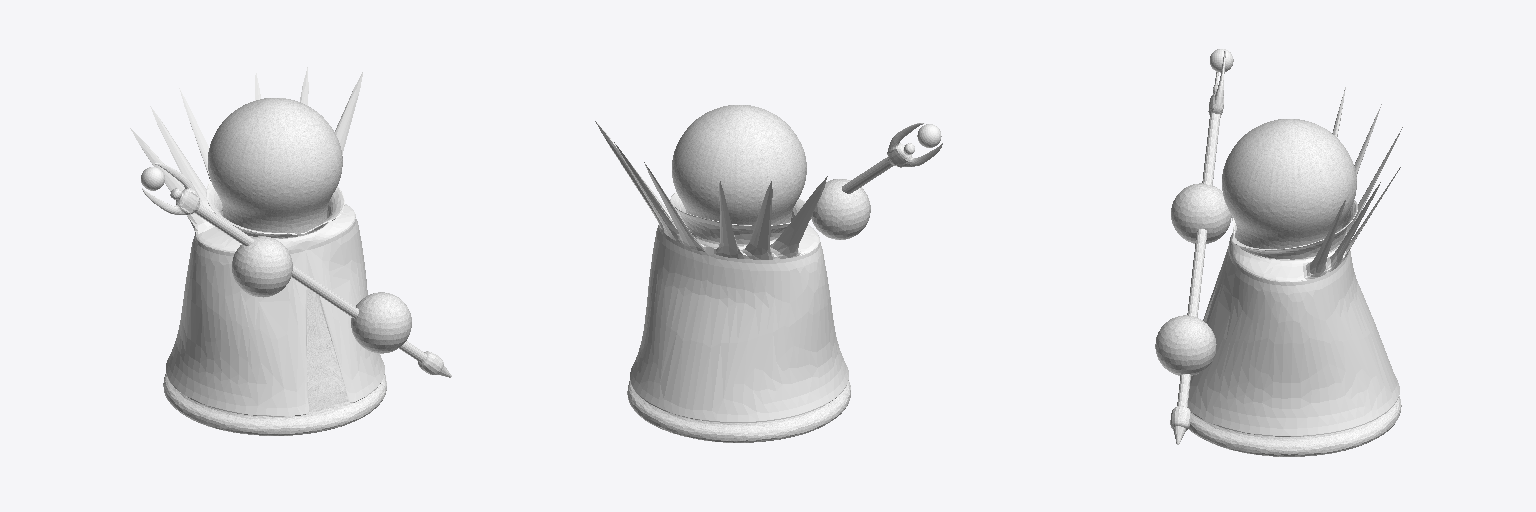
3 views of the same model, side by side, from view 1: azimuth 30°, elevation 25°; view 2: azimuth 150°, elevation 25°; view 3: azimuth 270°, elevation 25° (orthographic).
Parts seen in each view (by area): view 1: Robe, Body, Staff, Hand2_Hand1.001, Hand1; view 2: Robe, Body, Hand1, Staff; view 3: Robe, Body, Staff, Hand2_Hand1.001, Hand1.
Part boxes in pixels (x1,y1,x2,y2): Robe: (130,67,384,416); Body: (163,98,386,435); Staff: (141,163,451,377); Hand2_Hand1.001: (351,292,411,353); Hand1: (232,236,292,297); Robe: (595,121,848,422); Body: (627,105,850,442); Hand1: (811,179,870,239); Staff: (810,123,942,219); Robe: (1187,87,1402,436); Body: (1189,119,1401,456); Staff: (1170,49,1233,444); Hand2_Hand1.001: (1155,315,1216,375); Hand1: (1171,183,1231,243).
Size of the model in its own units: 0.8672 by 0.8256 by 0.6481.
Materials: 1 (1 with a texture image).